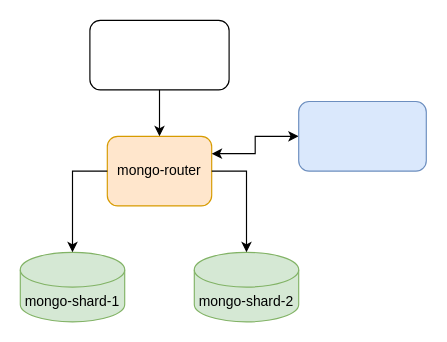
Some shapes in this 447 by 342 pixel diagram are drawn without their labels. Here are the shapes that lost their labels. From the top down, the box of each, then its label:
(89, 19, 229, 90): pymongo-api
(298, 100, 426, 171): mongo-config-srv
